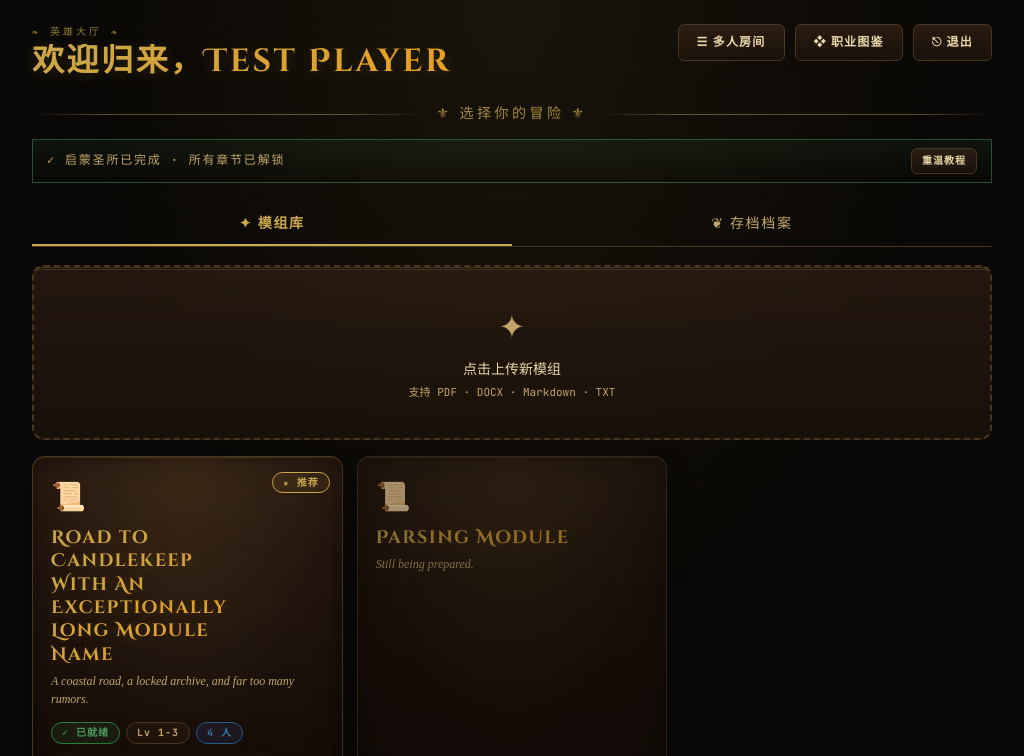
Scenario: Home responsive shell › switches to saves with responsive save cards and wrapping metadata
Expected: the text "Road to Candlekeep With An Exceptionally Long Module Name" is shown, [51, 526, 324, 666]
Click the tab "❦ 存档档案".
click(752, 224)  # box [512, 202, 992, 246]
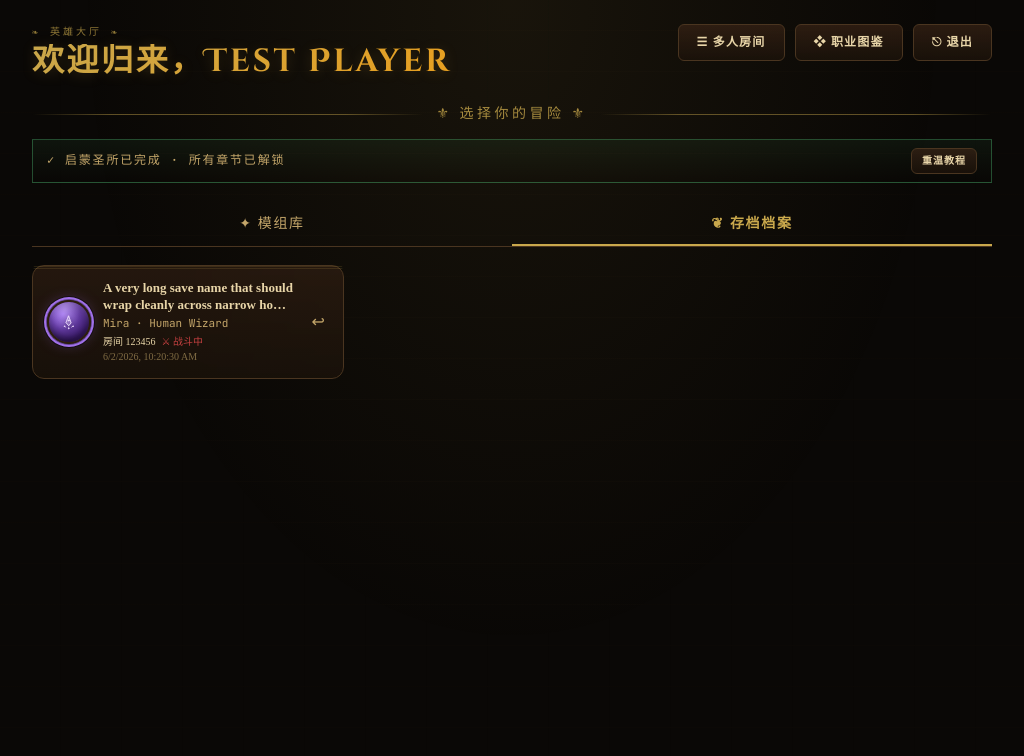
Now the element with class "home-save-card" is shown, box [32, 265, 344, 379]
Now the text "A very long save name that should wrap cleanly across narrow home cards" is shown, box [103, 280, 296, 314]
Now the text "Mira · Human Wizard" is shown, box [103, 316, 228, 330]
